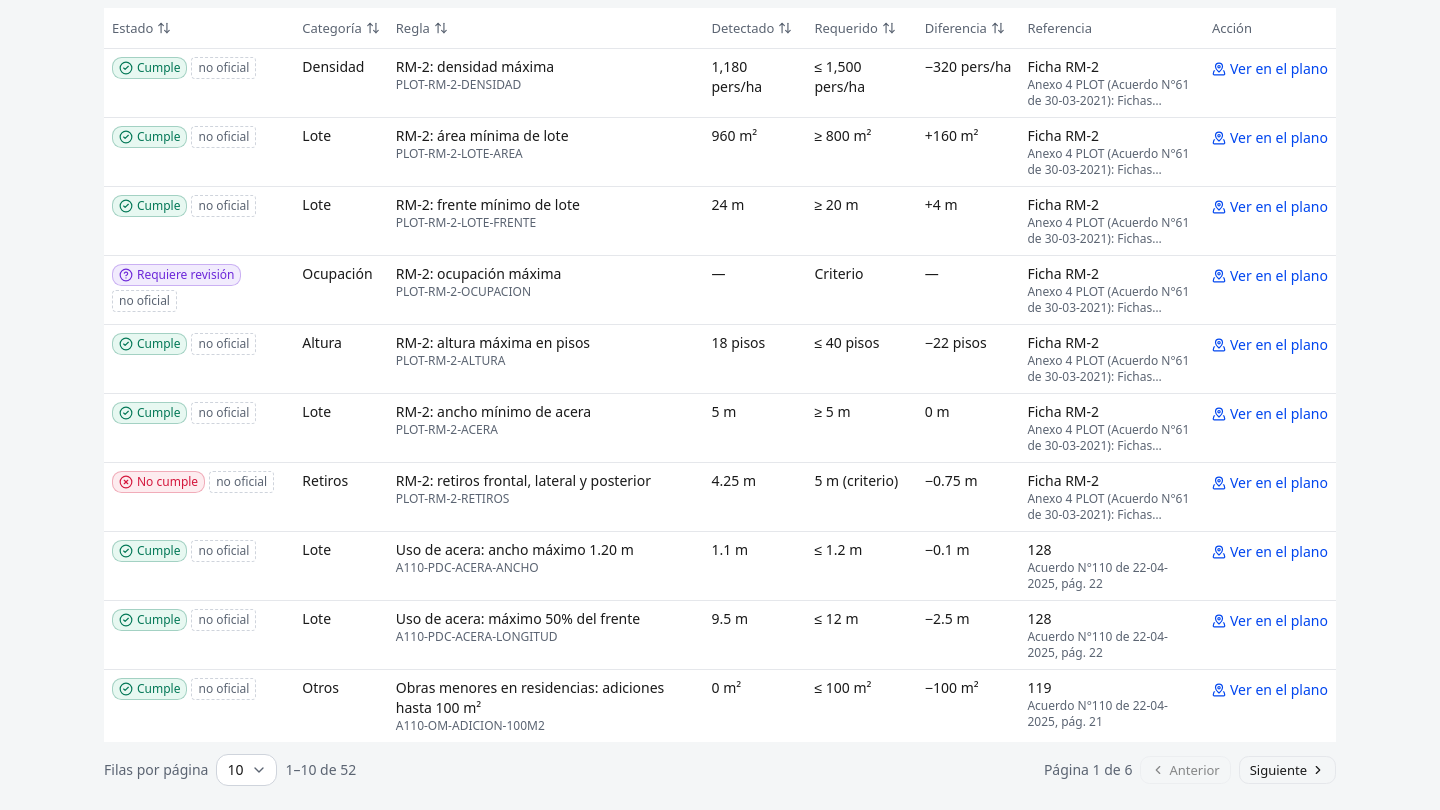
Test: Compliance Results › pagina de 10 en 10
(page scrolled)
Expected: the text "Página 1 de 6" is shown, [1044,760,1132,780]
Click the button "Siguiente" at {"x": 1287, "y": 770}, box [1239,756,1336,784]
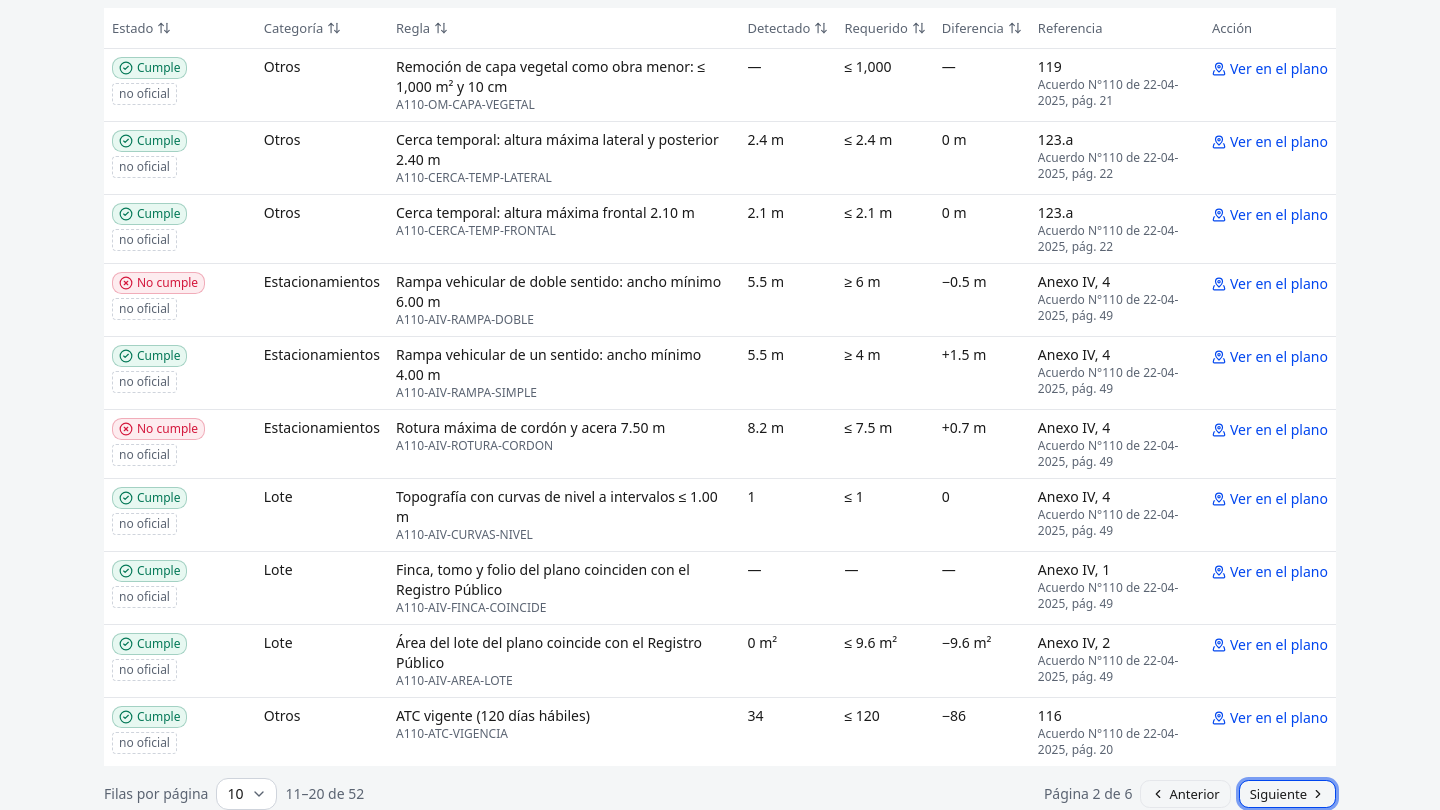
Now the text "Página 2 de 6" is shown, box [1044,784,1132,804]
Select "50" in the dropdown labelled "Filas por página" at {"x": 247, "y": 794}, box [216,778,277,809]
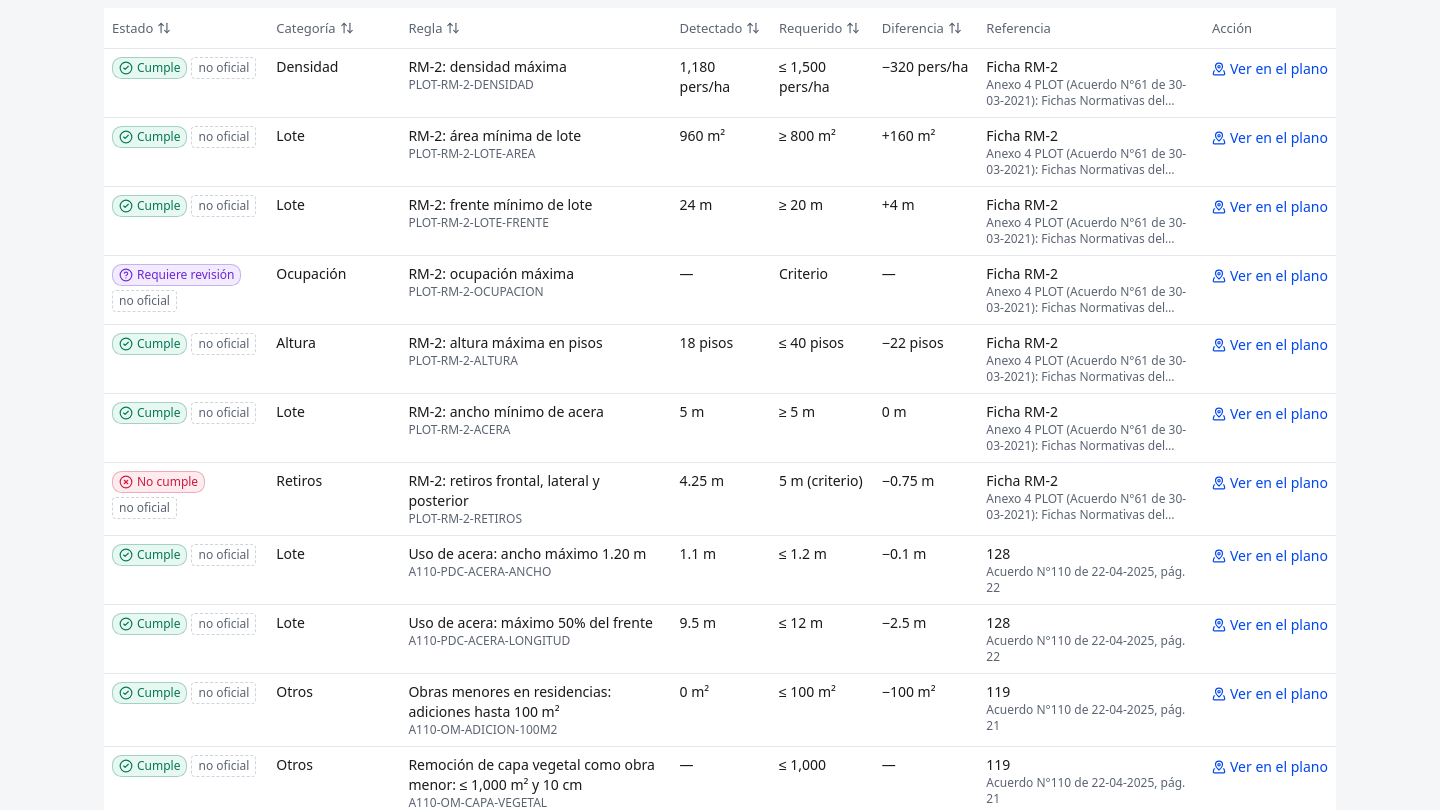
Now the number of rows with test id "result-row" is 50
